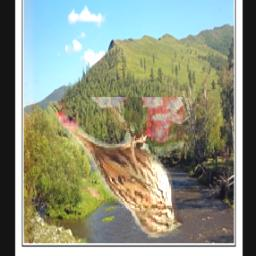Sparrow: (44, 98, 183, 240)
